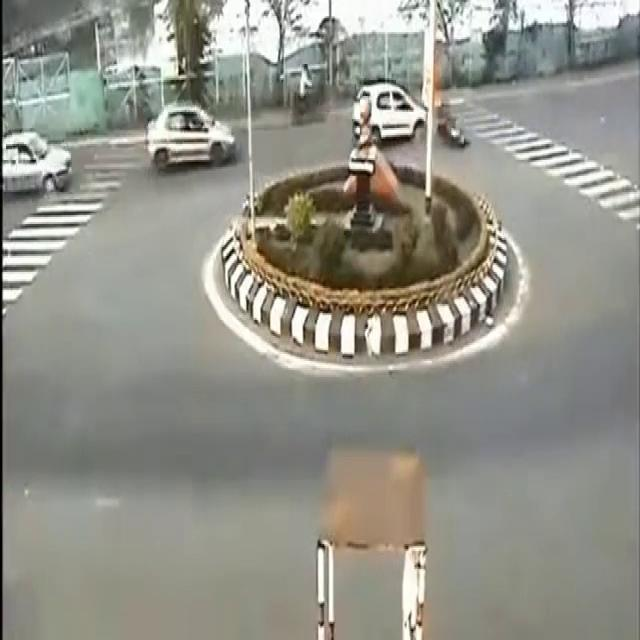accident: (342, 55, 488, 175)
